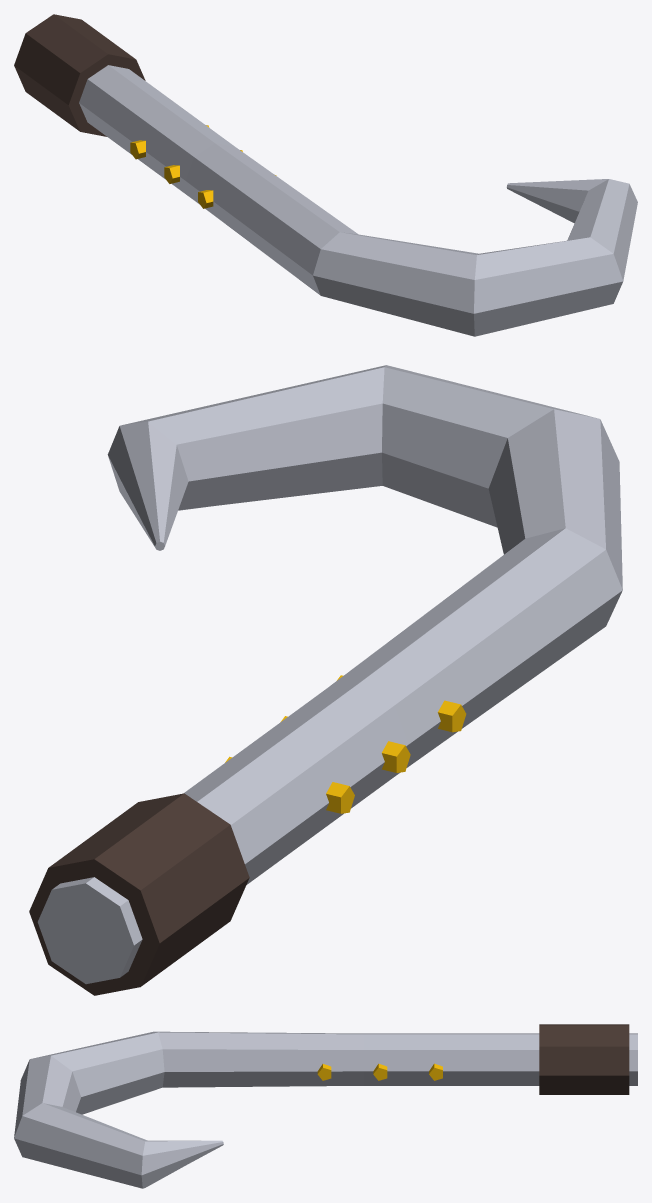
The model's file is long_link_1.glb.
3 renders of one model, top to bottom at view 1: azimuth 30°, elevation 25°; view 2: azimuth 150°, elevation 25°; view 3: azimuth 270°, elevation 25°, orthographic. The views are drawn at different scales.
Visible parts, largest first — view 1: long_link_1_Mesh; view 2: long_link_1_Mesh; view 3: long_link_1_Mesh.
Boxes of the visible parts, x1=… form: long_link_1_Mesh: x1=14, y1=14, x2=637, y2=336; long_link_1_Mesh: x1=29, y1=365, x2=622, y2=995; long_link_1_Mesh: x1=14, y1=1024, x2=637, y2=1188.
Bounding box in the file's own units: 0.7274 × 0.176 × 1.46.
Materials: 3 (1 with a texture image).
